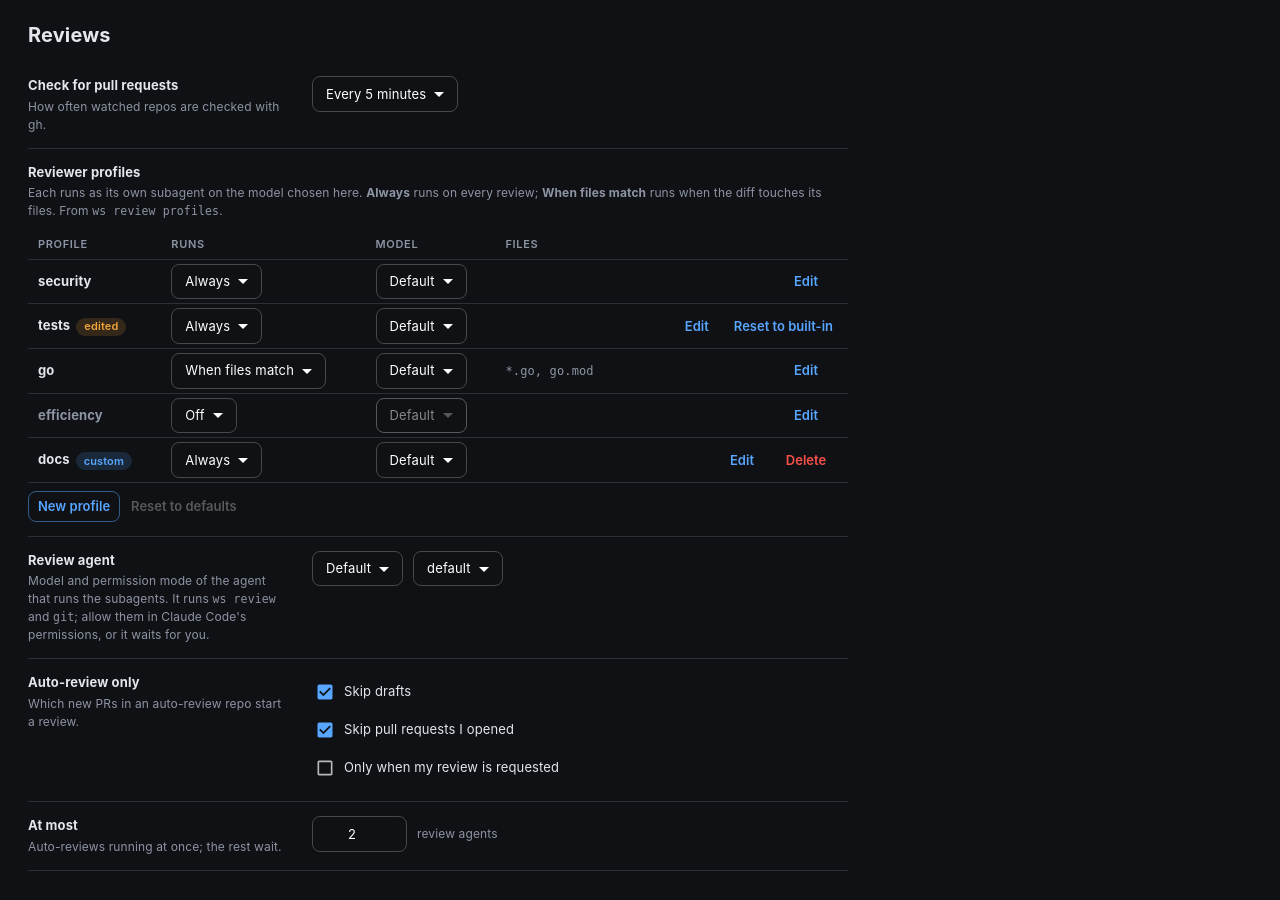
Reviewer profiles actions › keeps the dialog open with ws's message when removing fails
Expected: the text "docs" is shown, top-left (38, 451), bottom-right (70, 467)
Click the button with aria-label "Delete docs".
click(806, 460)  # box top-left (774, 445), bottom-right (838, 476)
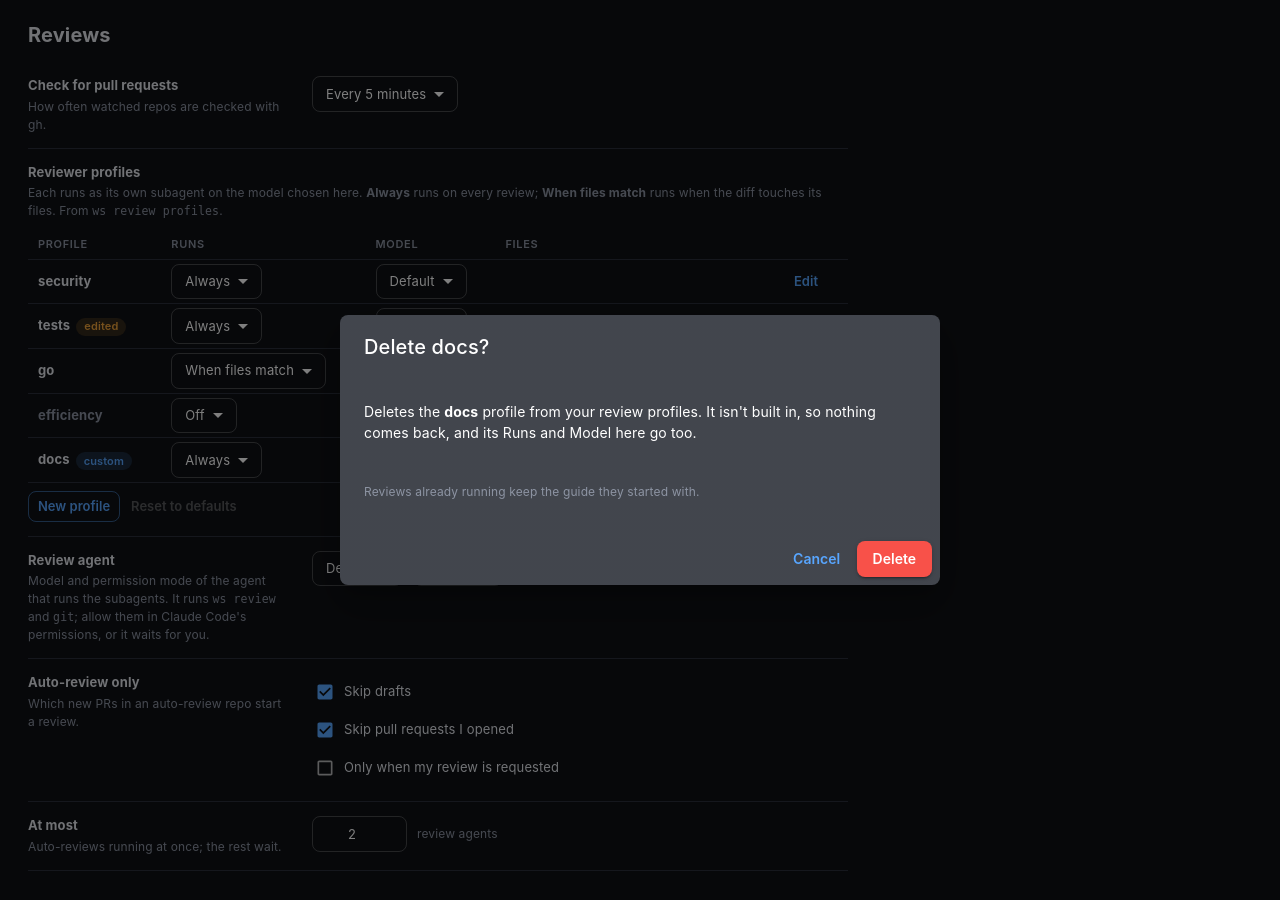
Click the button "Delete".
click(894, 559)  # box top-left (857, 541), bottom-right (932, 577)
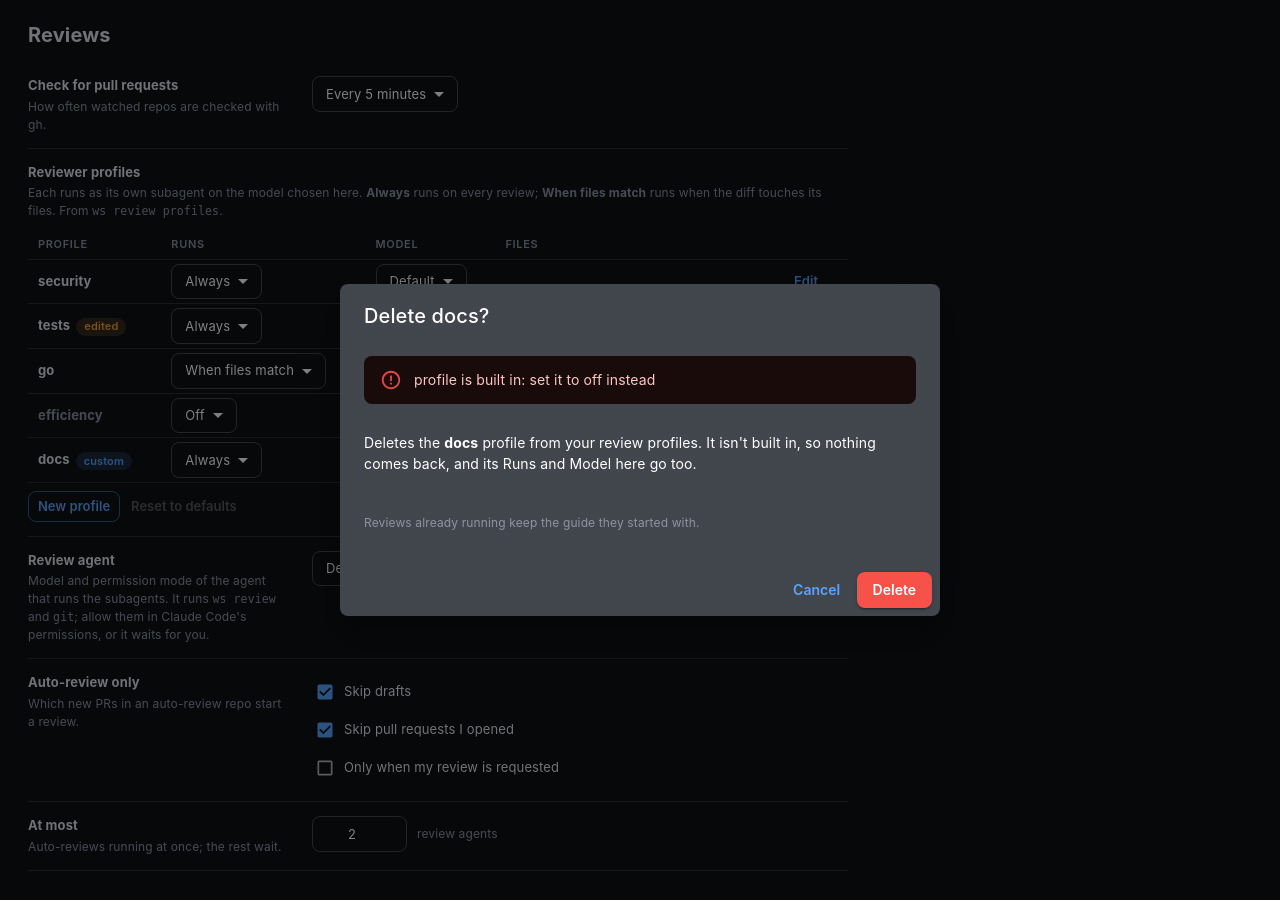
Now the text "profile is built in: set it to off instead" is shown, box top-left (414, 371), bottom-right (655, 388)
